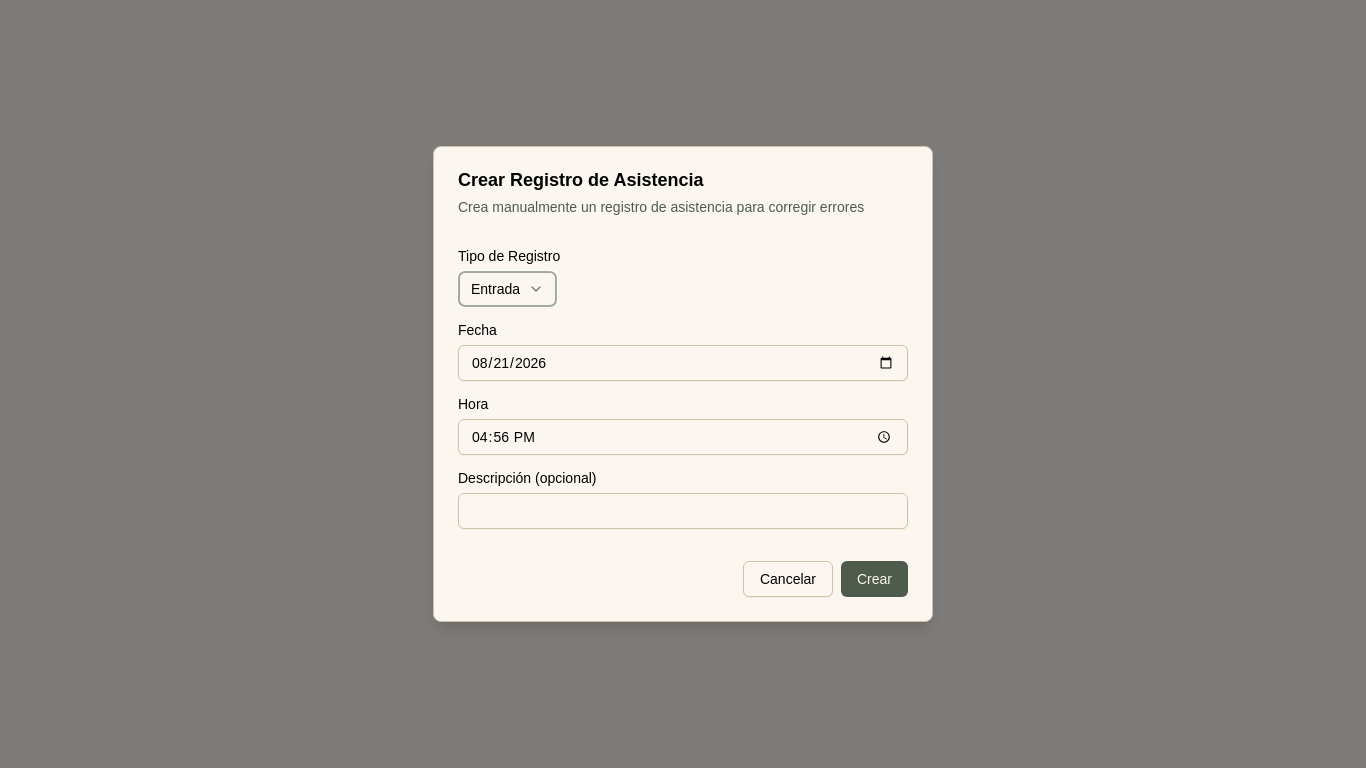
AttendanceEntryModal › Creation mode › shows "Guardando..." while saving
Click the button "Crear": [874, 579] box top-left (841, 561), bottom-right (908, 597)
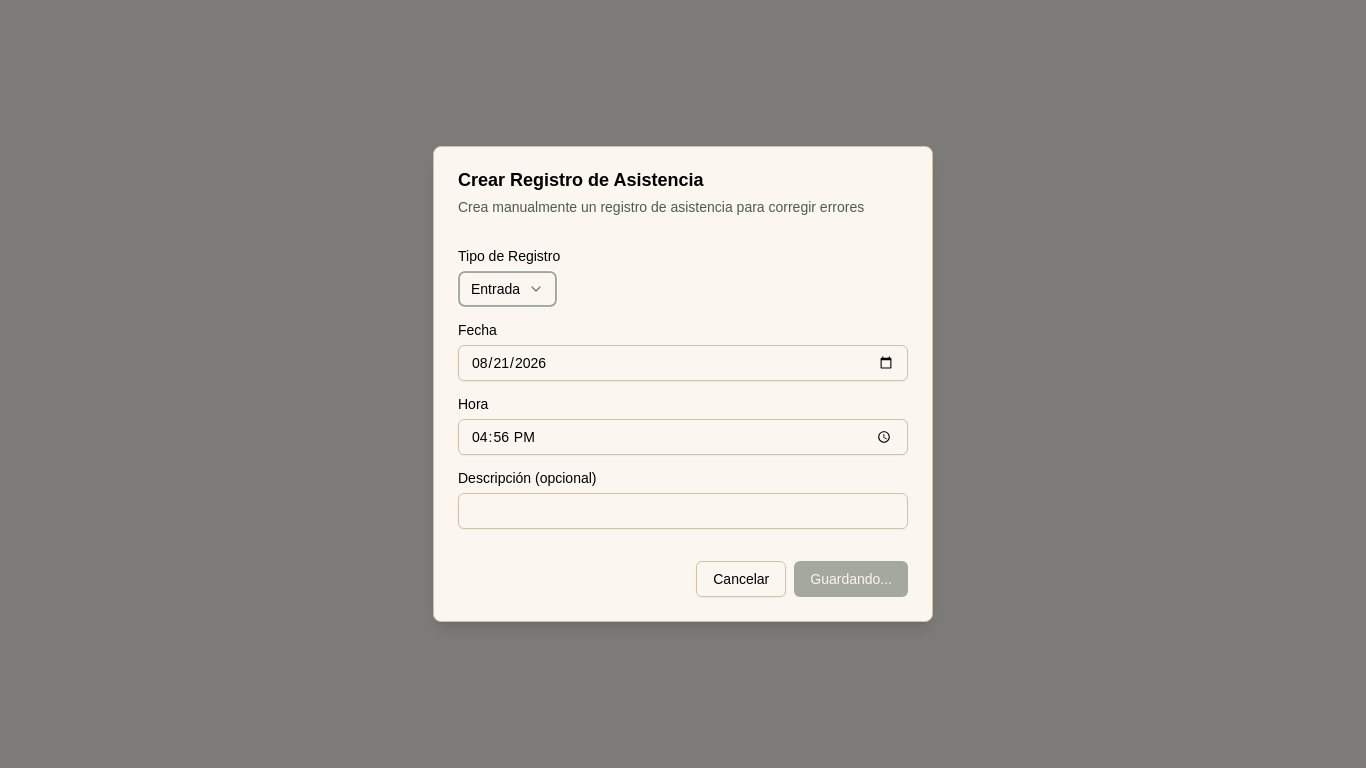
Check: the button "Guardando..." is shown, box top-left (794, 561), bottom-right (908, 597)
